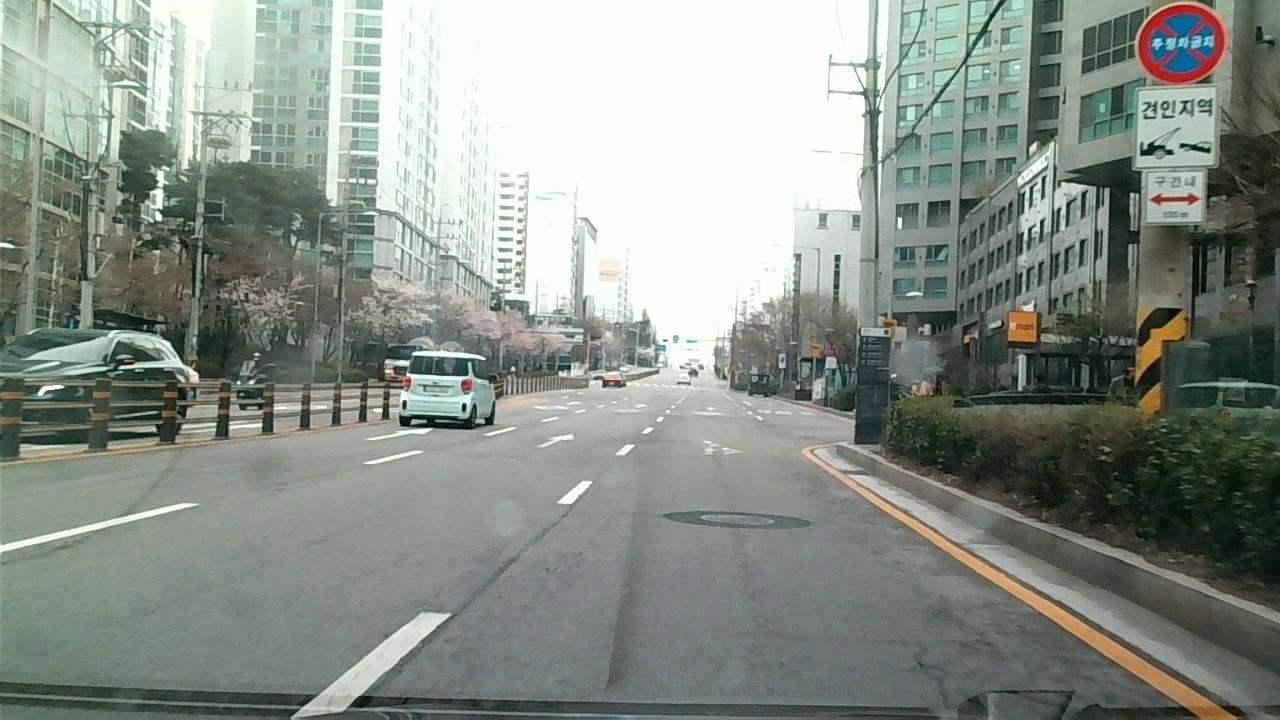vcrack: (453, 501, 564, 616), (596, 540, 638, 697), (905, 632, 959, 709)
